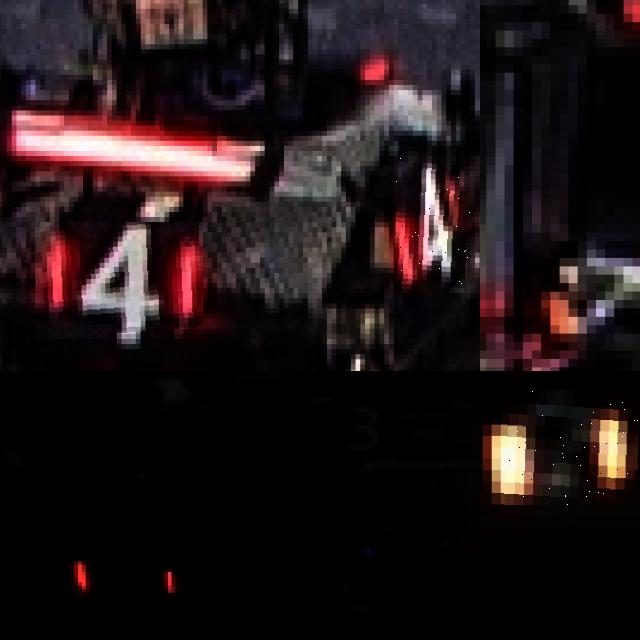R4: (35, 222, 203, 339), (394, 156, 475, 293)
Rs: (501, 390, 638, 505)
